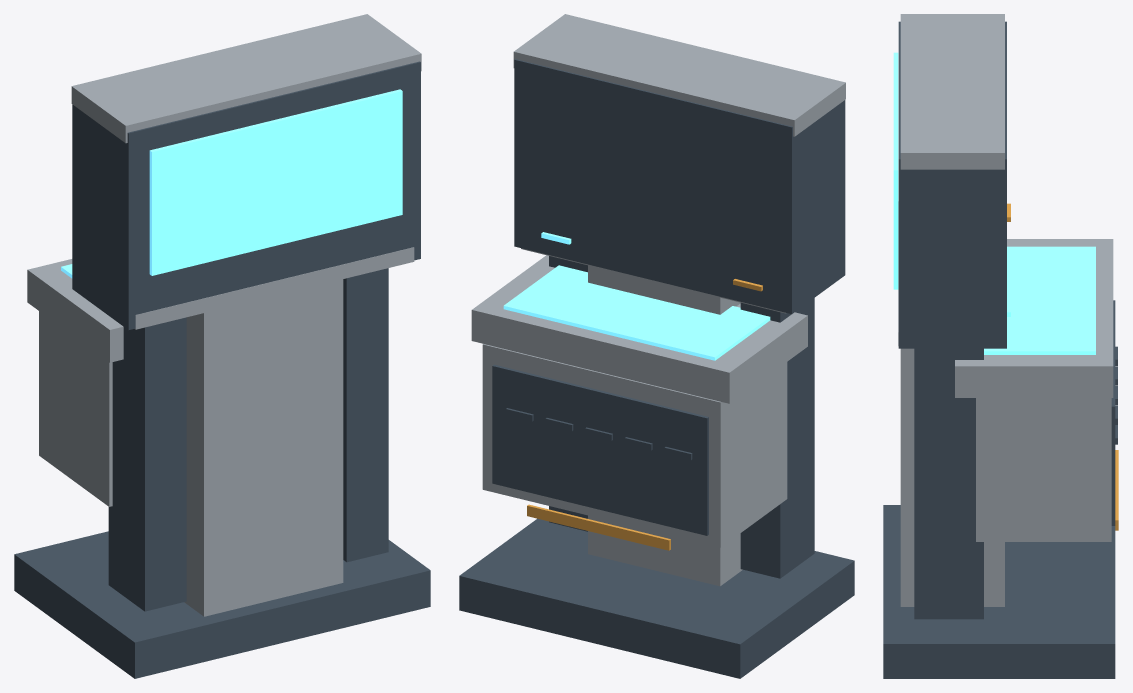
3 views of the same model, side by side, from view 1: azimuth 30°, elevation 25°; view 2: azimuth 150°, elevation 25°; view 3: azimuth 270°, elevation 25° (orthographic). The views are drawn at different scales.
Visible parts, largest first — view 1: Core, DisplayBezel, Screen, Foot, SupportL, TopCap, SupportR, Storage, ControlArm, LowerDisplayRail; view 2: DisplayBezel, Foot, StorageFront, Storage, TopCap, ControlArm, TouchPanel, SupportL, Core, FrontCaution; view 3: Foot, DisplayBezel, Storage, SupportR, TopCap, TouchPanel, ControlArm, Core, Screen, StorageFront.
Boxes of the visible parts, x1=… form: Core: x1=184, y1=279, x2=343, y2=616; DisplayBezel: x1=72, y1=61, x2=420, y2=330; Screen: x1=149, y1=89, x2=402, y2=275; Foot: x1=14, y1=531, x2=430, y2=678; SupportL: x1=108, y1=317, x2=186, y2=611; TopCap: x1=71, y1=14, x2=421, y2=143; SupportR: x1=343, y1=268, x2=388, y2=562; Storage: x1=39, y1=311, x2=112, y2=506; ControlArm: x1=27, y1=259, x2=123, y2=362; LowerDisplayRail: x1=134, y1=247, x2=414, y2=329; DisplayBezel: x1=514, y1=59, x2=845, y2=314; Foot: x1=459, y1=518, x2=854, y2=678; StorageFront: x1=492, y1=364, x2=708, y2=535; Storage: x1=482, y1=344, x2=787, y2=547; TopCap: x1=513, y1=14, x2=845, y2=136; ControlArm: x1=471, y1=255, x2=807, y2=403; TouchPanel: x1=503, y1=265, x2=770, y2=360; SupportL: x1=740, y1=298, x2=814, y2=578; Core: x1=588, y1=265, x2=742, y2=586; FrontCaution: x1=527, y1=504, x2=670, y2=550; Foot: x1=883, y1=505, x2=1115, y2=678; DisplayBezel: x1=898, y1=21, x2=1006, y2=348; Storage: x1=976, y1=398, x2=1111, y2=541; SupportR: x1=914, y1=348, x2=983, y2=619; TopCap: x1=900, y1=14, x2=1004, y2=169; TouchPanel: x1=984, y1=246, x2=1095, y2=354; ControlArm: x1=955, y1=239, x2=1113, y2=397; Core: x1=900, y1=348, x2=1004, y2=606; Screen: x1=893, y1=52, x2=898, y2=289; StorageFront: x1=1111, y1=300, x2=1115, y2=525.
Bounding box in the file's own units: 0.85 × 1.5 × 0.6085.
